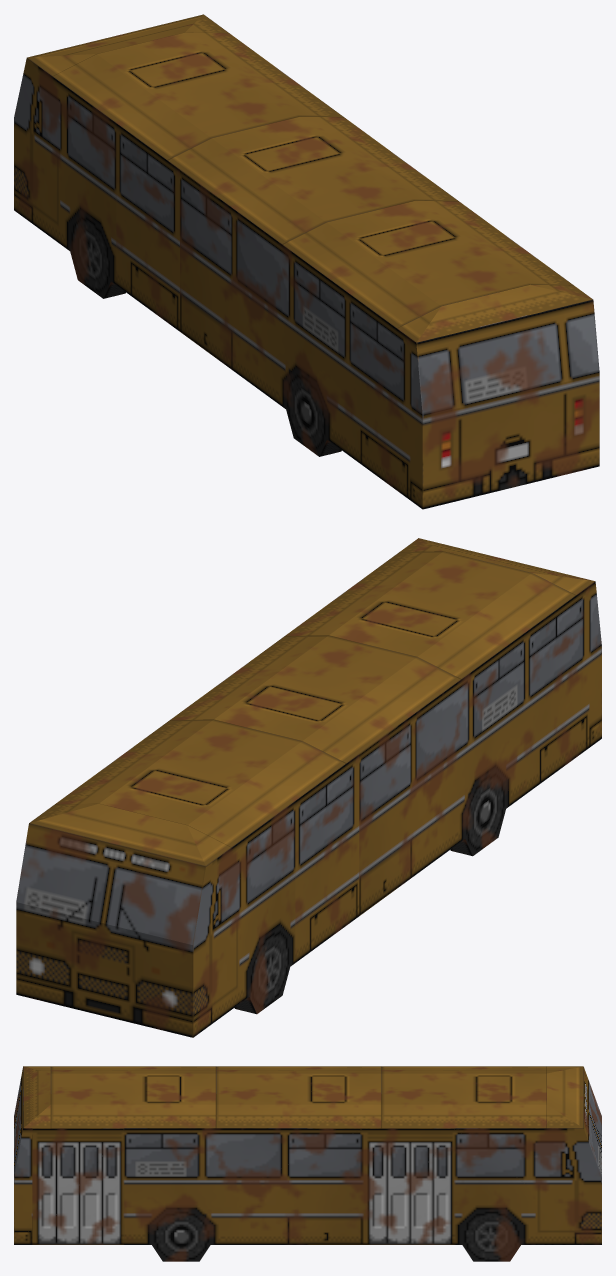
The model's file is prop_bus.glb.
3 renders of one model, top to bottom at view 1: azimuth 30°, elevation 25°; view 2: azimuth 150°, elevation 25°; view 3: azimuth 270°, elevation 25°, orthographic. The views are drawn at different scales.
Parts seen in each view (by area): view 1: hull; view 2: hull; view 3: hull.
Part boxes in pixels (bbox=[...]): hull: bbox=[14, 14, 599, 509]; hull: bbox=[16, 538, 601, 1037]; hull: bbox=[14, 1066, 601, 1261].
Size of the model in its own units: 1.32 by 1.38 by 5.2.
Materials: 1 (1 with a texture image).
